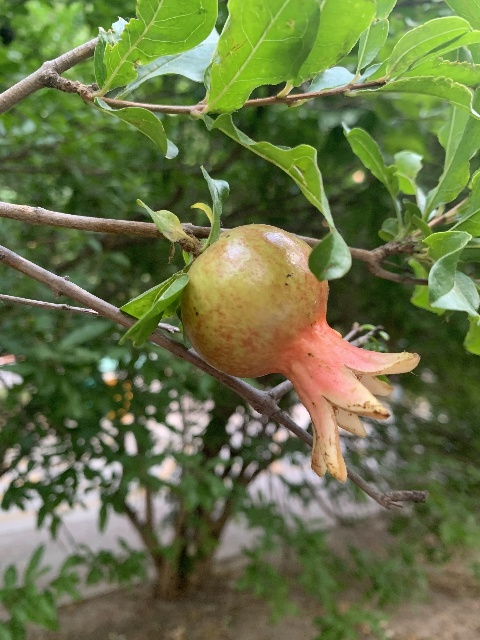early-fruit: (182, 223, 419, 483)
